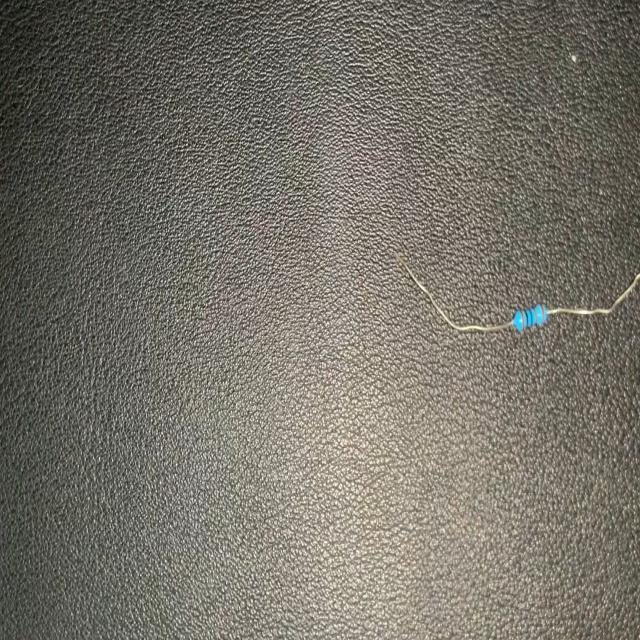resistor: (395, 244, 640, 334)
